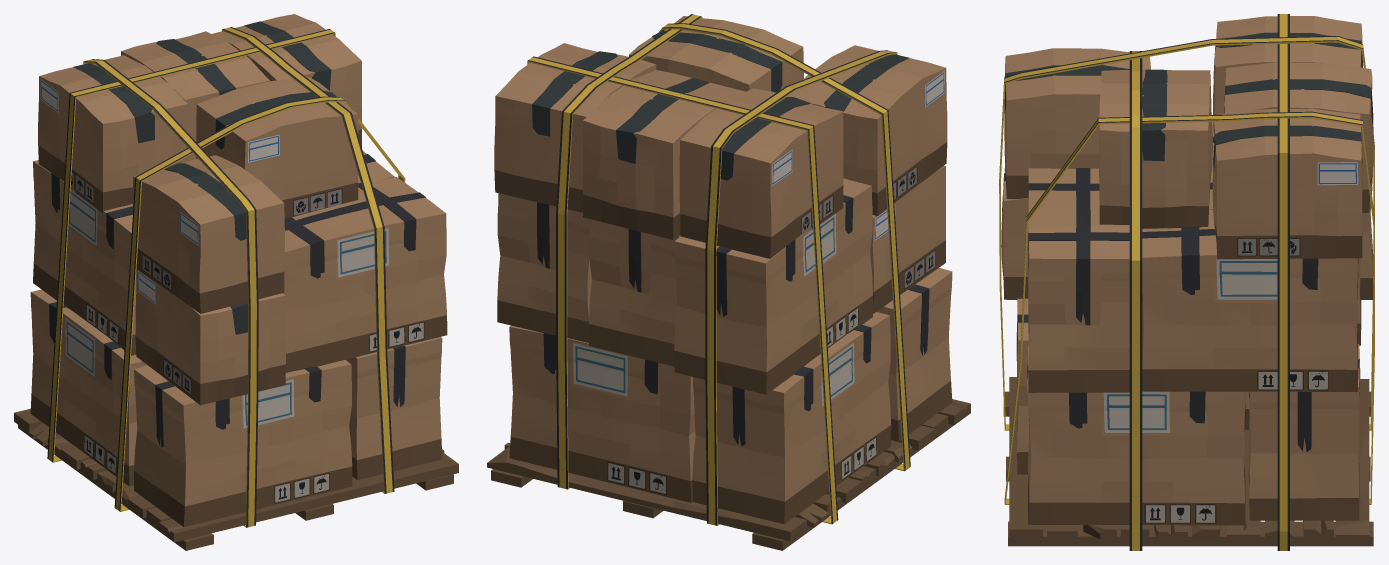
File: SM_Box_Warehouse.glb
The picture shows the model from 3 angles, left to right: view 1: azimuth 30°, elevation 25°; view 2: azimuth 150°, elevation 25°; view 3: azimuth 270°, elevation 25°; orthographic projection. The views are drawn at different scales.
Visible parts, largest first — view 1: SM_Box_Warehouse; view 2: SM_Box_Warehouse; view 3: SM_Box_Warehouse.
Boxes of the visible parts, x1,y1,x2,y2 form: SM_Box_Warehouse: (14, 14, 458, 550); SM_Box_Warehouse: (487, 14, 970, 550); SM_Box_Warehouse: (999, 14, 1374, 550).
Bounding box in the file's own units: 1.01 × 1.22 × 1.04.
1 material, 1 textured.
